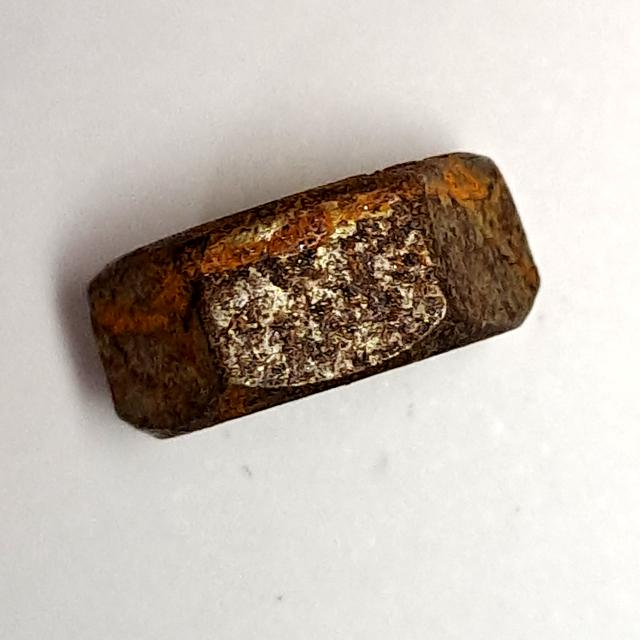Side_Rust: (68, 128, 556, 456)
